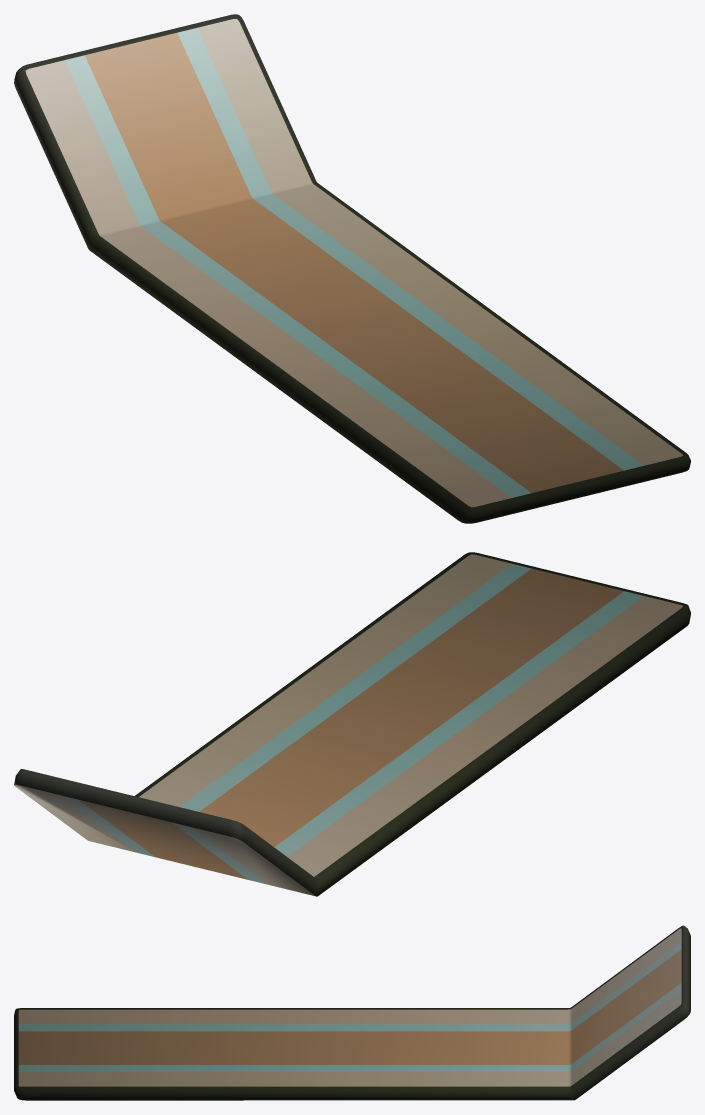
File: SunLounger_MattressStripes_B.fbx
3 views of the same model, one above another, from view 1: azimuth 30°, elevation 25°; view 2: azimuth 150°, elevation 25°; view 3: azimuth 270°, elevation 25° (orthographic). The views are drawn at different scales.
Visible parts, largest first — view 1: SunLounger_MattressStripes_B; view 2: SunLounger_MattressStripes_B; view 3: SunLounger_MattressStripes_B.
Part boxes in pixels (box(x1,y1,x2,y2)): SunLounger_MattressStripes_B: box(14, 14, 690, 523); SunLounger_MattressStripes_B: box(14, 552, 690, 896); SunLounger_MattressStripes_B: box(14, 925, 690, 1100).
Size of the model in its own units: 45.43 by 24.42 by 157.
